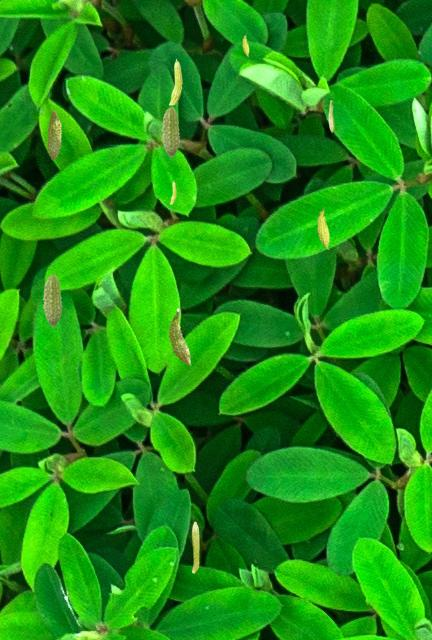ampalaya: (167, 308, 191, 365), (42, 273, 62, 328), (161, 106, 180, 158), (46, 109, 62, 161), (168, 58, 182, 105), (317, 207, 329, 250), (191, 521, 199, 573), (328, 99, 334, 132), (169, 180, 176, 204), (242, 33, 249, 57)
